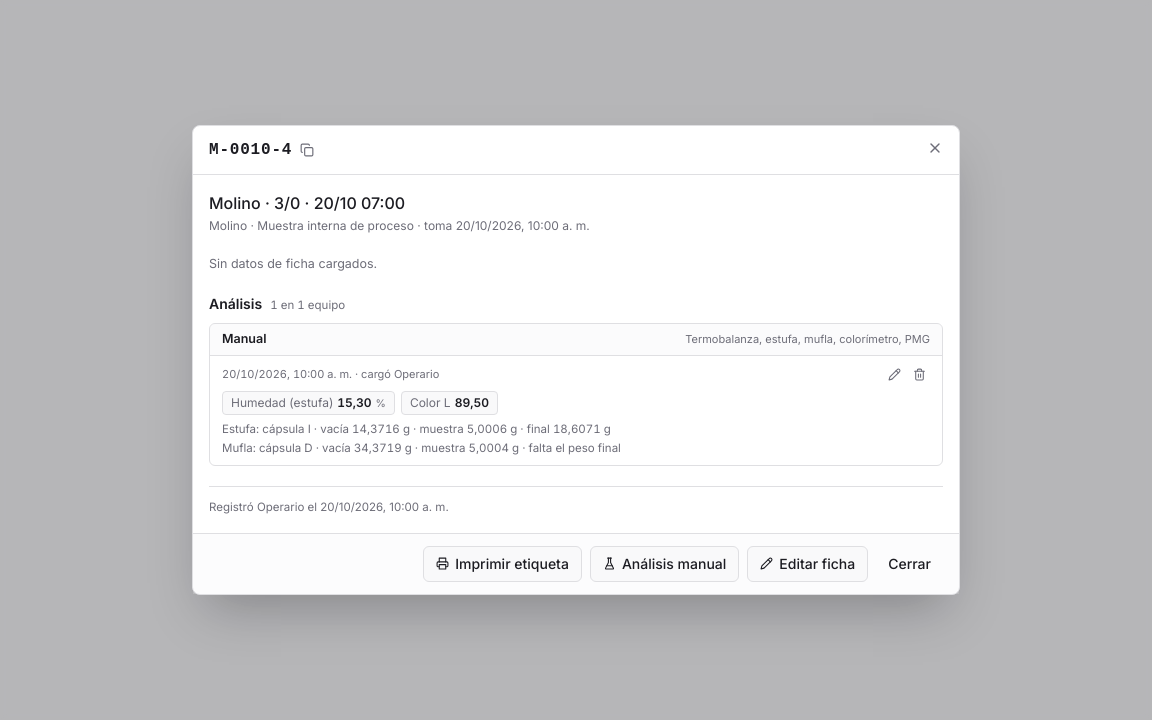
Test: ficha de la muestra › muestra lo manual como se cargó, con las cápsulas, y el botón abre ese análisis para completarlo
The image size is (1152, 720).
Check: the text "89,50" is shown, box top-left (455, 394), bottom-right (489, 412)
Check: the text "15,30" is shown, box top-left (337, 394), bottom-right (372, 412)
Click the button "Análisis manual" at point(665, 564), box top-left (590, 546), bottom-right (739, 582)
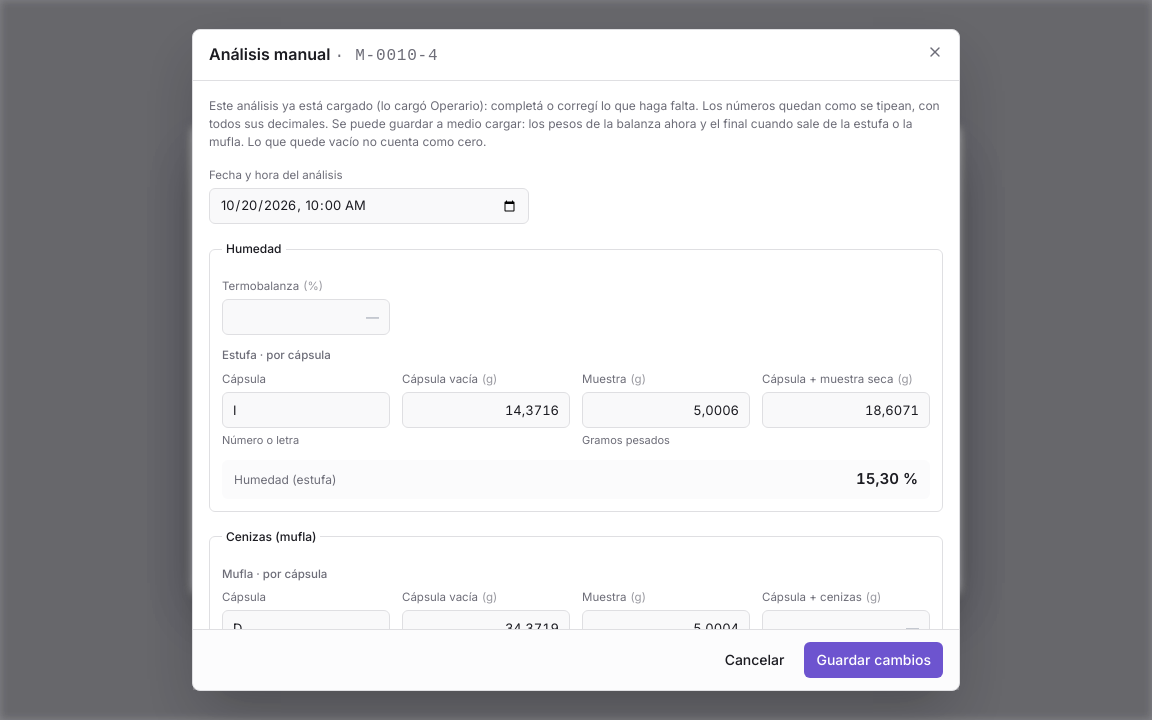
Check: the text "ya está cargado (lo cargó Operario): completá o corregí" is shown, box top-left (209, 97), bottom-right (943, 151)
Check: the button "Guardar cambios" is shown, box top-left (804, 642), bottom-right (943, 678)
